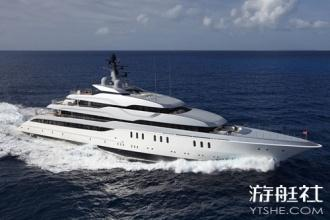yacht: (31, 53, 321, 166)
